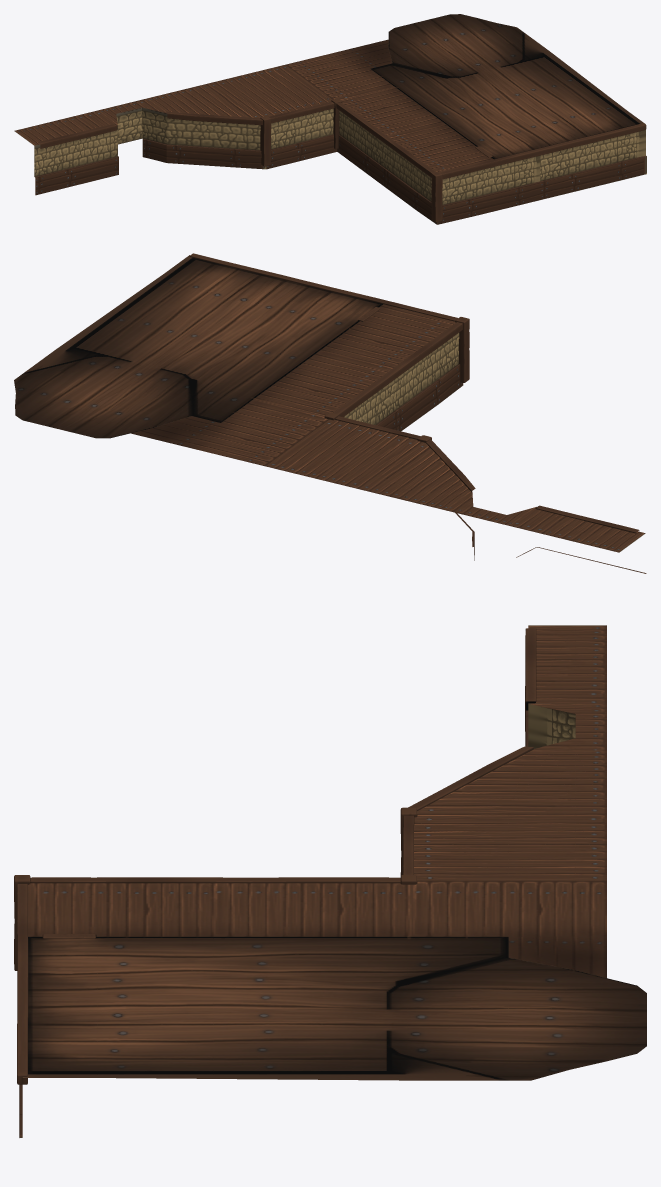
Rendered from castleTerrace_model.glb.
The picture shows the model from 3 angles, top to bottom: view 1: azimuth 30°, elevation 25°; view 2: azimuth 150°, elevation 25°; view 3: azimuth 270°, elevation 25°; orthographic projection. The views are drawn at different scales.
Visible parts, largest first — view 1: castleTerrace_t5; view 2: castleTerrace_t5; view 3: castleTerrace_t5.
Boxes of the visible parts, bbox=[...] form: castleTerrace_t5: bbox=[14, 14, 646, 224]; castleTerrace_t5: bbox=[14, 253, 646, 573]; castleTerrace_t5: bbox=[14, 625, 646, 1137].
Size of what is drawn, in the model's own units: 39.11 by 3.93 by 22.98.
1 material, 1 textured.
